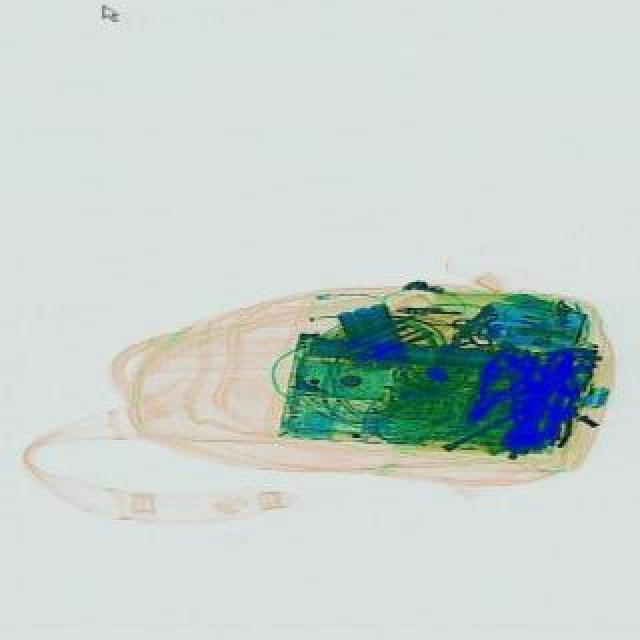wrench: (450, 340, 546, 434)
